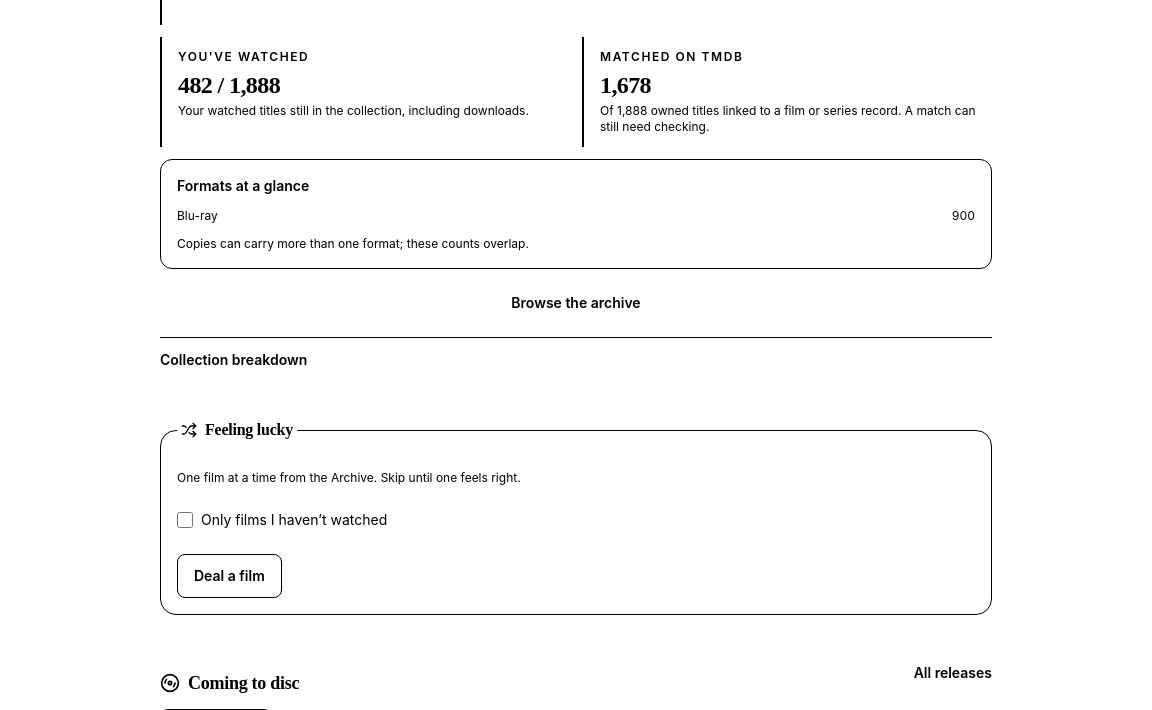
it: Home as rows, the collection first — Batch W2 › says what each count is: films owned, and copies split into discs and downloads — Batch X12a
This screenshot has width=1152, height=710.
(page scrolled)
Click the heading "Collection breakdown" at (234, 360), box [160,351,307,368]
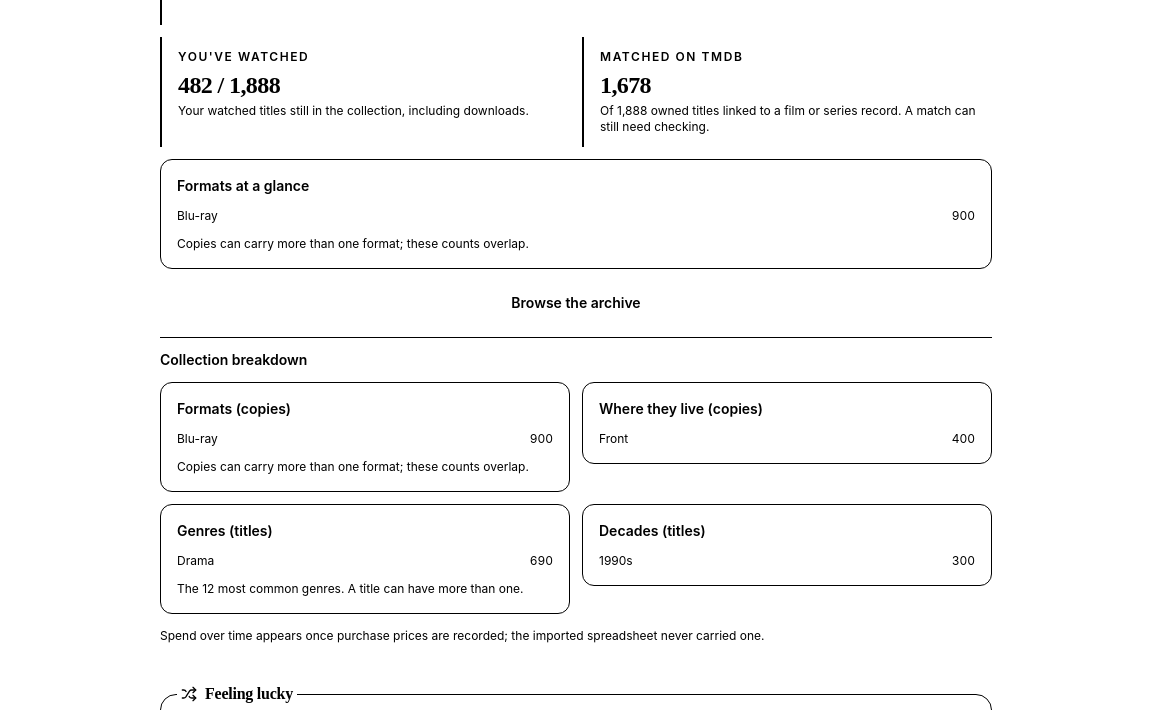
Check: the heading "Formats (copies)" is shown, box [177,400,291,417]
Check: the heading "Where they live (copies)" is shown, box [599,400,763,417]
